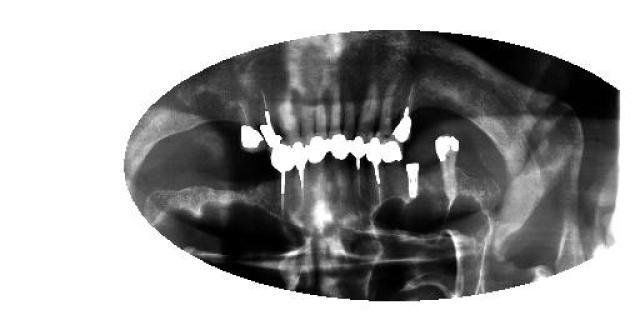Fillings: (434, 135, 461, 204), (381, 136, 404, 165), (308, 136, 328, 165), (329, 134, 350, 161)
Implant: (230, 92, 268, 152), (390, 81, 424, 144), (258, 85, 282, 149), (272, 142, 292, 212), (351, 134, 369, 205), (292, 139, 308, 211), (368, 136, 384, 205), (405, 160, 420, 200)
